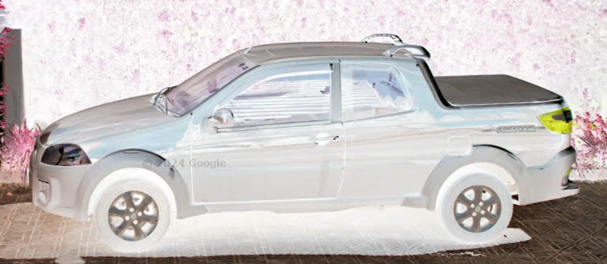car: (28, 40, 577, 252)
